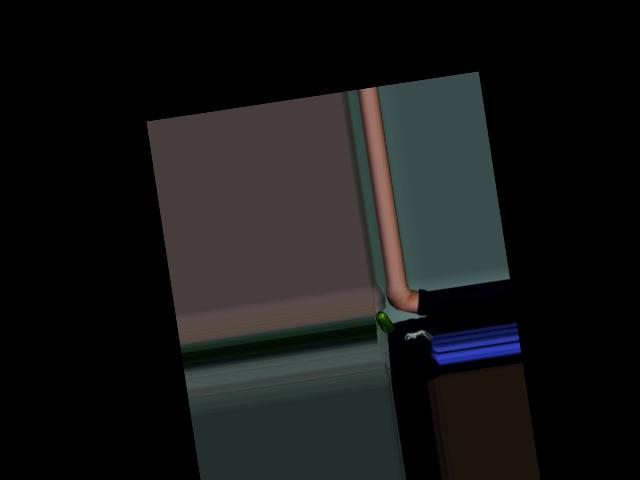cucumber: (374, 309, 395, 335)
